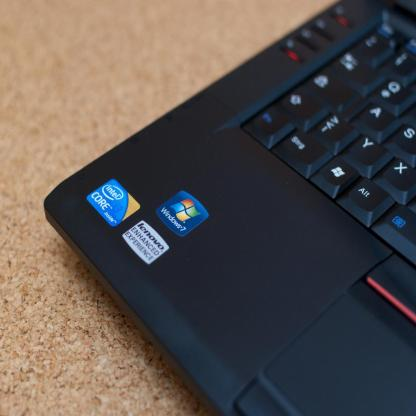board: (46, 0, 416, 406)
